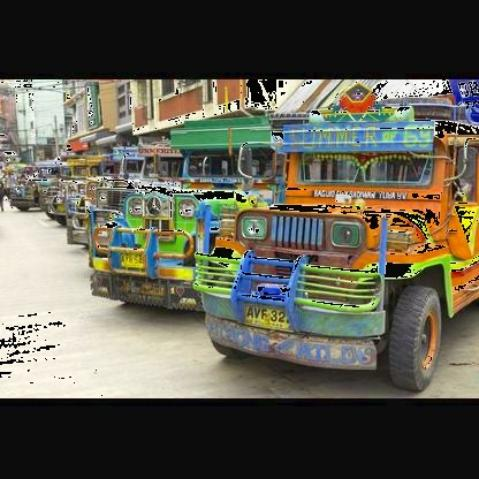jeepney: (223, 106, 468, 389), (103, 120, 290, 332)
